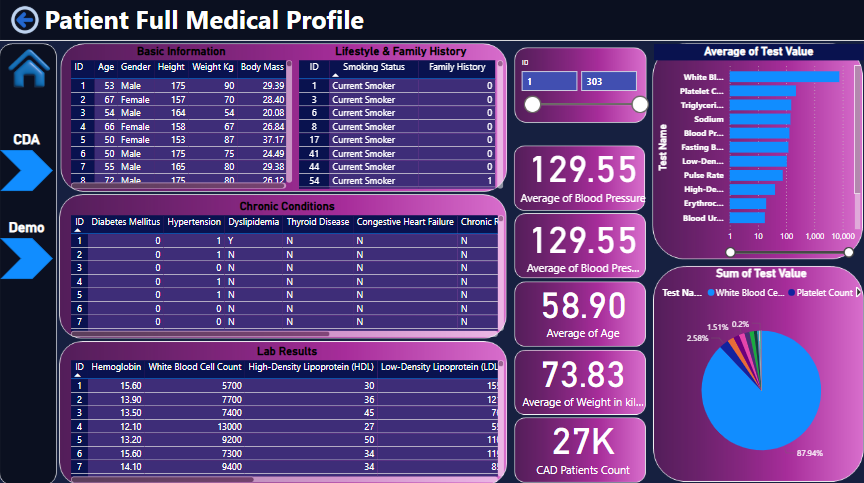

Layout of this report page (visuals, bound fields, positions):
{"tool":"powerbi","page":{"name":"Patient Full Medical Profile","canvas":[1280,720],"ordinal":3},"visuals":[{"type":"tableEx","title":"Basic Information","fields":{"Values":["CAD Dataset.ID","CAD Dataset.Age in years","CAD Dataset.Gender","CAD Dataset.Height in centimeters","CAD Dataset.Weight in kilograms","CAD Dataset.Body Mass Index"]},"box":[98.4,66.1,338,218.9],"z":0},{"type":"slicer","fields":{"Values":["CAD Dataset.ID"]},"box":[758.2,82.3,208.7,94],"z":1000},{"type":"tableEx","title":"Chronic Conditions","fields":{"Values":["CAD Dataset.ID","CAD Dataset.Diabetes Mellitus","CAD Dataset.Hypertension","CAD Dataset.Dyslipidemia","CAD Dataset.Thyroid Disease","CAD Dataset.Congestive Heart Failure","CAD Dataset.Chronic Renal Failure","CAD Dataset.Valvular Heart Disease","CAD Dataset.Coronary Artery Disease (CAD)"]},"box":[98.4,295.3,650.9,208.7],"z":2000},{"type":"tableEx","title":"Lifestyle & Family History","fields":{"Values":["CAD Dataset.ID","CAD Dataset.Smoking Status","CAD Dataset.Family History of Heart Disease"]},"box":[436.4,66.1,313,218.9],"z":3000},{"type":"tableEx","title":"Lab Results","fields":{"Values":["CAD Dataset.ID","CAD Dataset.Hemoglobin","CAD Dataset.White Blood Cell Count","CAD Dataset.High-Density Lipoprotein (HDL)","CAD Dataset.Low-Density Lipoprotein (LDL)","CAD Dataset.Triglycerides","CAD Dataset.Fasting Blood Sugar","CAD Dataset.Erythrocyte Sedimentation Rate (ESR)","CAD Dataset.Platelet Count","CAD Dataset.Lymphocyte Percentage","CAD Dataset.Neutrophil Percentage"]},"box":[98.4,509.9,650.9,210.1],"z":4000},{"type":"card","fields":{"Values":["Avg(CAD Dataset.Age in years)"]},"box":[765.6,399.7,192.5,113.1],"z":5000},{"type":"card","fields":{"Values":["Avg(CAD Dataset.Weight in kilograms)"]},"box":[765.6,504,192.5,107.3],"z":6000},{"type":"card","fields":{"Values":["Avg(CAD Dataset.Blood Pressure)"]},"box":[761.1,199.8,201.3,111.7],"z":7000},{"type":"card","fields":{"Values":["Avg(CAD Dataset.Blood Pressure)"]},"box":[771.4,304.2,180.7,110.2],"z":8000},{"type":"card","fields":{"Values":["CAD Dataset.CAD Patients Count"]},"box":[761.1,601,201.3,114.6],"z":9000},{"type":"barChart","title":"Average of Test Value","fields":{"Y":["Avg(CAD Dataset.Test Value)"],"Category":["CAD Dataset.Test Name"]},"box":[966.9,66.1,310,318.9],"z":10000},{"type":"pieChart","title":"Sum of Test Value","fields":{"Category":["CAD Dataset.Test Name"],"Y":["Sum(CAD Dataset.Test Value)"]},"box":[974.2,395.3,302.7,320.3],"z":11000},{"type":"image","box":[0,63.5,85.7,77.8],"z":12000},{"type":"shape","title":"Demo","box":[0,325.8,78.8,89.4],"z":13000},{"type":"image","box":[0,0,73,61.9],"z":14000},{"type":"shape","title":"CDA","box":[0,195.5,78.8,89.4],"z":15000},{"type":"textbox","box":[60.6,0,578.8,63.6],"z":16000}]}

Visuals, with their boxes on the page's 1280x720 design canvas (x1, y1, x2, y2). These are canvas units, not pixel positions in the 864x483 screenshot, which may show the page scaled, cropped or inside an application window:
"Basic Information" tableEx: <region>98, 66, 436, 285</region>
slicer - CAD Dataset.ID: <region>758, 82, 967, 176</region>
"Chronic Conditions" tableEx: <region>98, 295, 749, 504</region>
"Lifestyle & Family History" tableEx: <region>436, 66, 749, 285</region>
"Lab Results" tableEx: <region>98, 510, 749, 720</region>
card - Avg(CAD Dataset.Age in years): <region>766, 400, 958, 513</region>
card - Avg(CAD Dataset.Weight in kilograms): <region>766, 504, 958, 611</region>
card - Avg(CAD Dataset.Blood Pressure): <region>761, 200, 962, 312</region>
card - Avg(CAD Dataset.Blood Pressure): <region>771, 304, 952, 414</region>
card - CAD Dataset.CAD Patients Count: <region>761, 601, 962, 716</region>
"Average of Test Value" barChart: <region>967, 66, 1277, 385</region>
"Sum of Test Value" pieChart: <region>974, 395, 1277, 716</region>
image: <region>0, 64, 86, 141</region>
"Demo" shape: <region>0, 326, 79, 415</region>
image: <region>0, 0, 73, 62</region>
"CDA" shape: <region>0, 196, 79, 285</region>
textbox: <region>61, 0, 639, 64</region>
